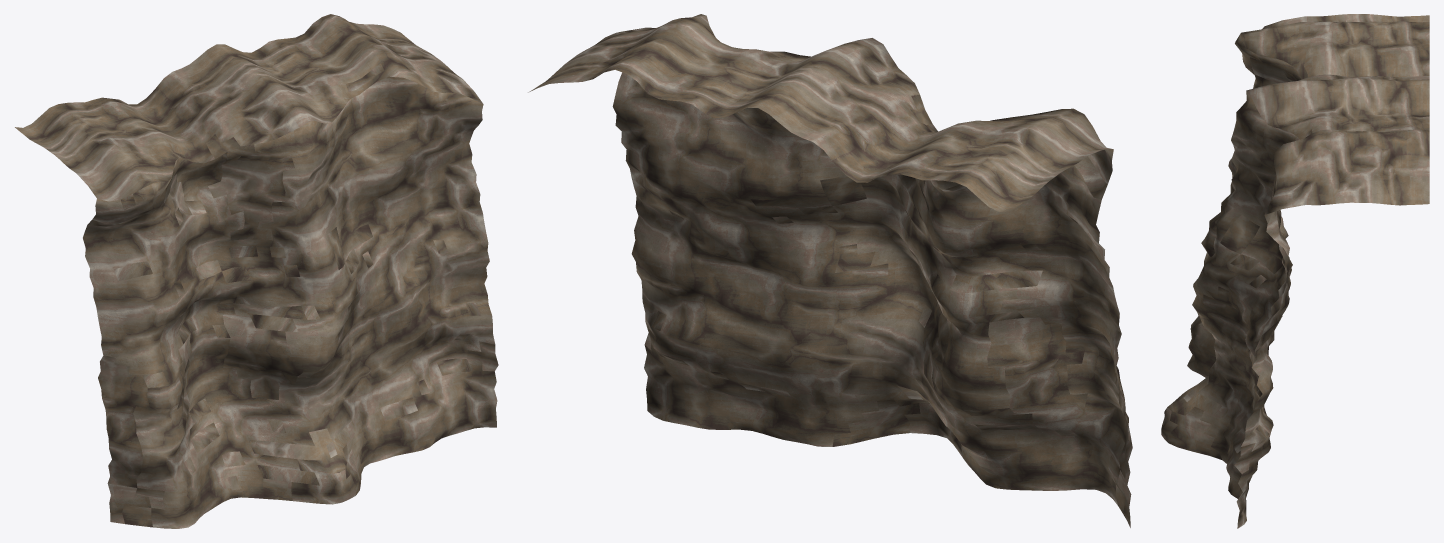
The model's file is rock_cliff.glb.
3 views of the same model, side by side, from view 1: azimuth 30°, elevation 25°; view 2: azimuth 150°, elevation 25°; view 3: azimuth 270°, elevation 25° (orthographic). The views are drawn at different scales.
Visible parts, largest first — view 1: RockCliff-col; view 2: RockCliff-col; view 3: RockCliff-col.
Part boxes in pixels (bbox=[...]): RockCliff-col: bbox=[15, 14, 498, 528]; RockCliff-col: bbox=[528, 14, 1132, 527]; RockCliff-col: bbox=[1161, 14, 1429, 528].
Bounding box in the file's own units: 8 × 7.16 × 4.81.
1 material, 1 textured.
